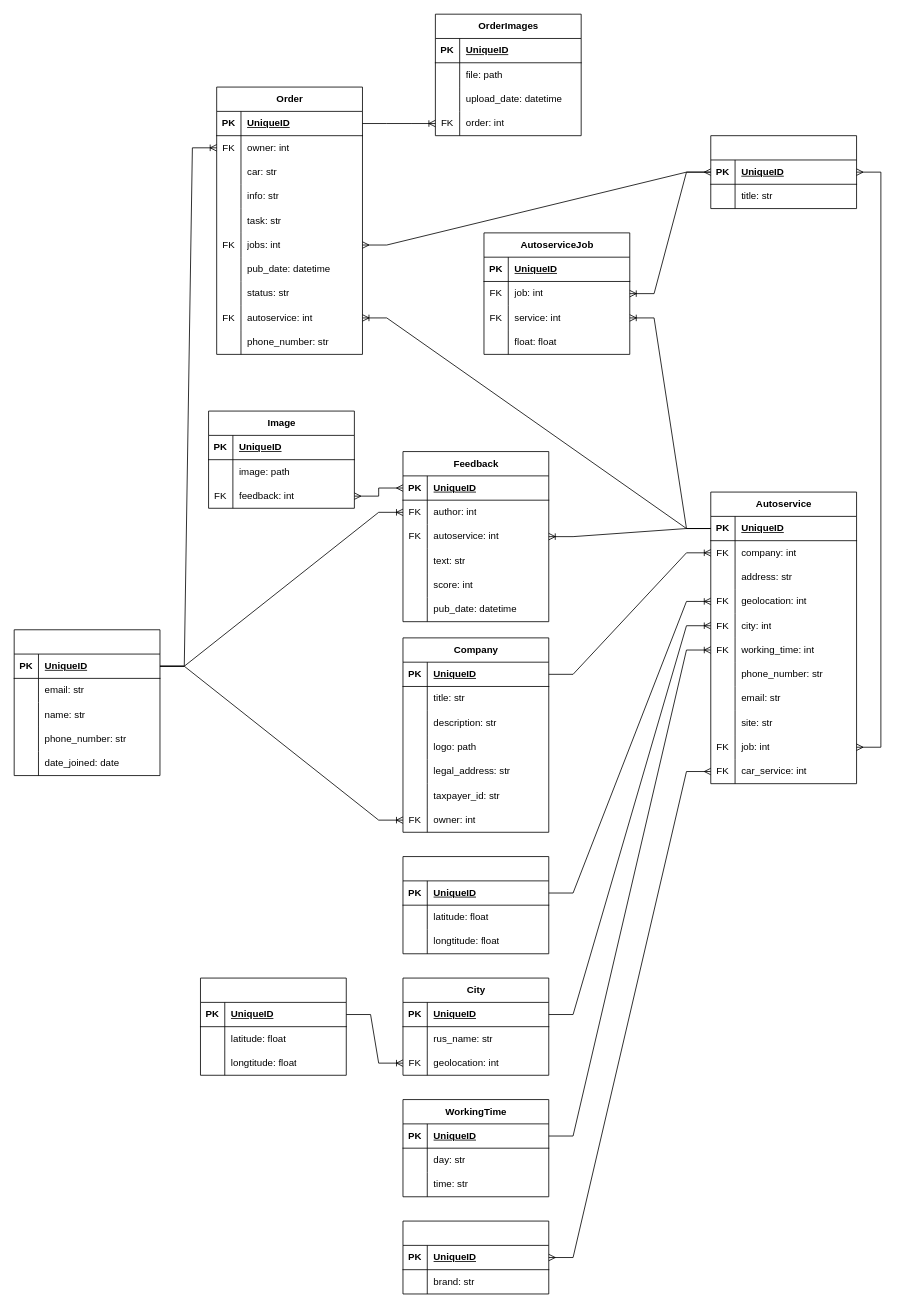
This 902x1308 diagram has some shape labels left out. The shapes that lost their labels are listed below. From the top down, each one's box as (x1, y1, x2, y2) in pixels, then its label:
(710, 135, 857, 209): Jobs
(13, 629, 160, 776): User
(402, 856, 549, 954): GeolocationAutoService
(200, 977, 346, 1075): GeolocationCity
(402, 1220, 549, 1294): Transport
